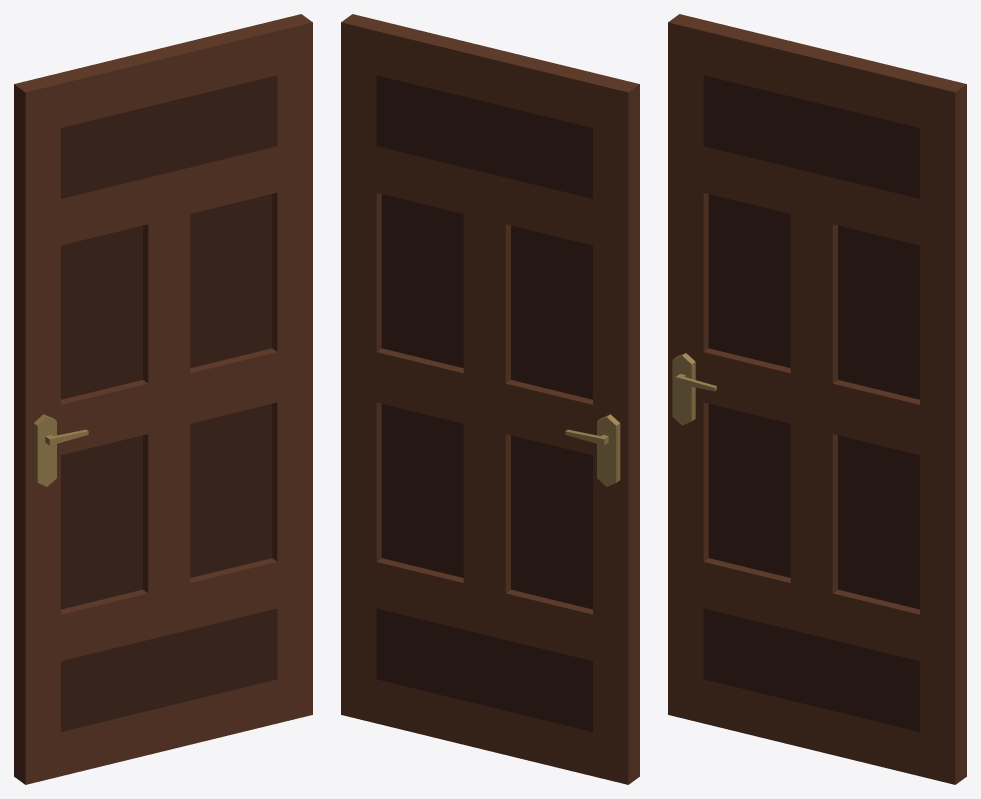
The model's file is Door_03.fbx.
3 views of the same model, side by side, from view 1: azimuth 30°, elevation 25°; view 2: azimuth 150°, elevation 25°; view 3: azimuth 330°, elevation 25° (orthographic).
Parts seen in each view (by area): view 1: Door_03; view 2: Door_03; view 3: Door_03.
Boxes of the visible parts, left/top/right/bottom form: Door_03: left=14, top=14, right=312, bottom=784; Door_03: left=341, top=14, right=639, bottom=784; Door_03: left=668, top=14, right=966, bottom=784.
Size of the model in its own units: 0.8687 by 2 by 0.1478.
